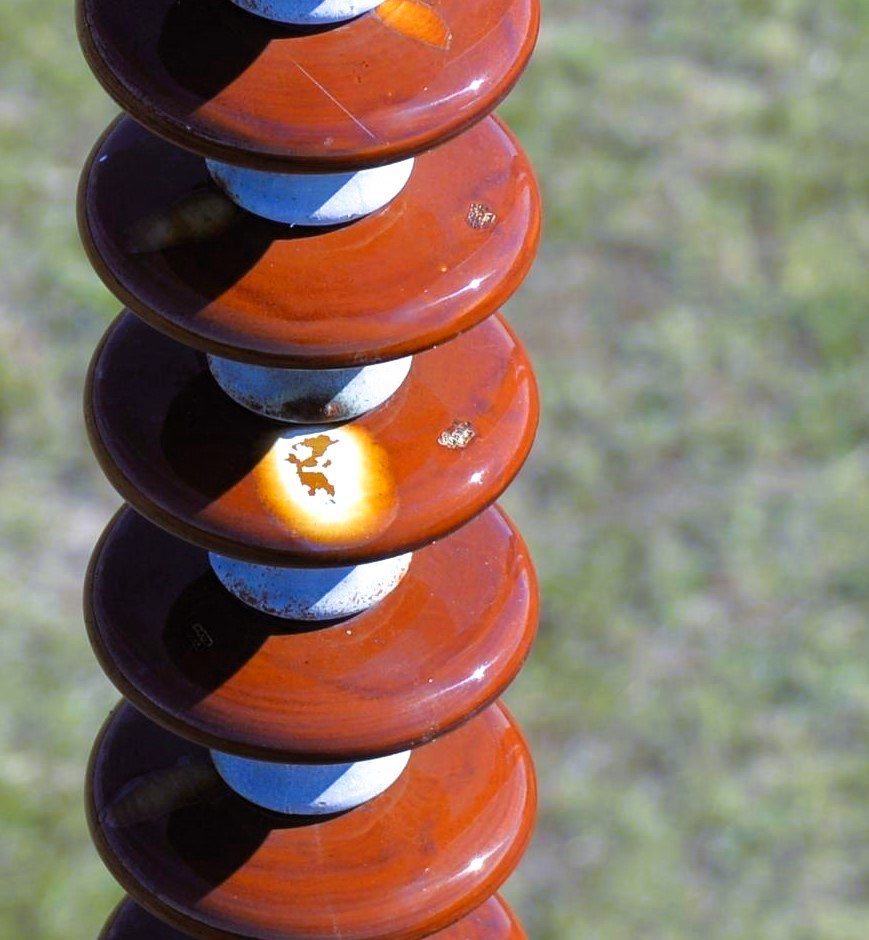Insulator flashover: (71, 299, 549, 572)
